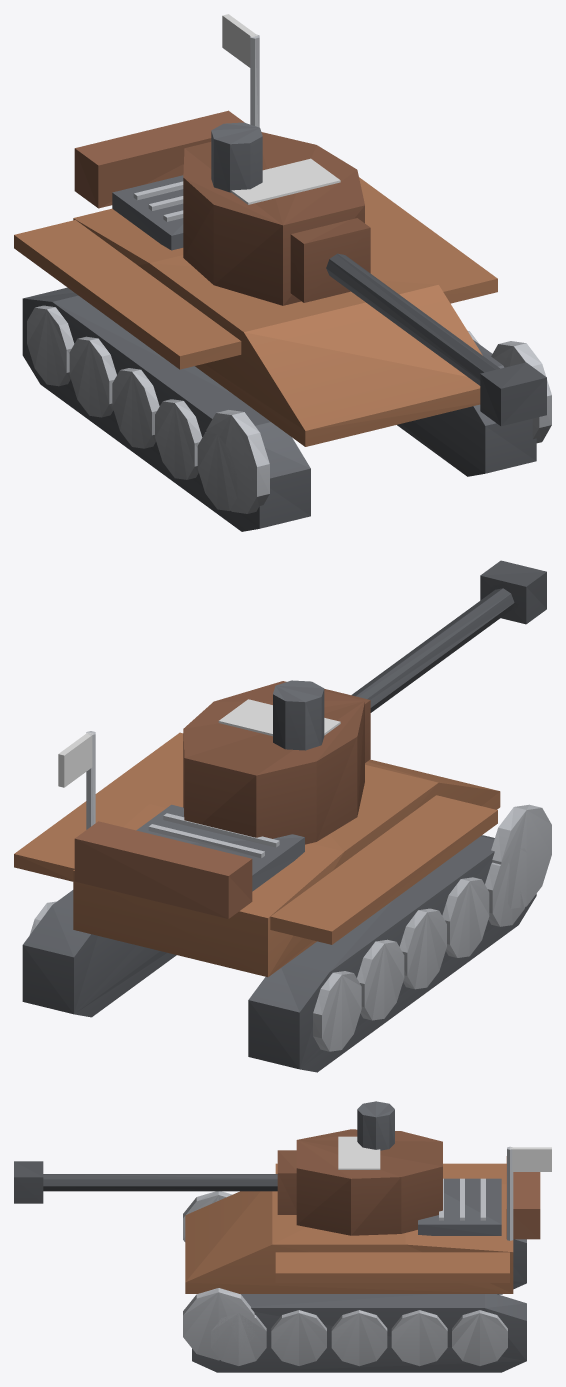
File: Panzer.glb
3 views of the same model, one above another, from view 1: azimuth 30°, elevation 25°; view 2: azimuth 150°, elevation 25°; view 3: azimuth 270°, elevation 25° (orthographic). The views are drawn at different scales.
Visible parts, largest first — view 1: Body, Part1, Part2; view 2: Body, Part1, Part2; view 3: Body, Part1, Part2.
Part boxes in pixels (x1,y1,x2,y2): Body: (14,14,551,531); Part1: (183,122,370,305); Part2: (326,253,546,426); Body: (14,731,551,1072); Part1: (183,680,370,844); Part2: (351,560,546,712); Body: (183,1146,551,1372); Part1: (277,1101,442,1235); Part2: (14,1161,277,1203).
Size of the model in its own units: 0.62 by 0.54 by 1.28.
